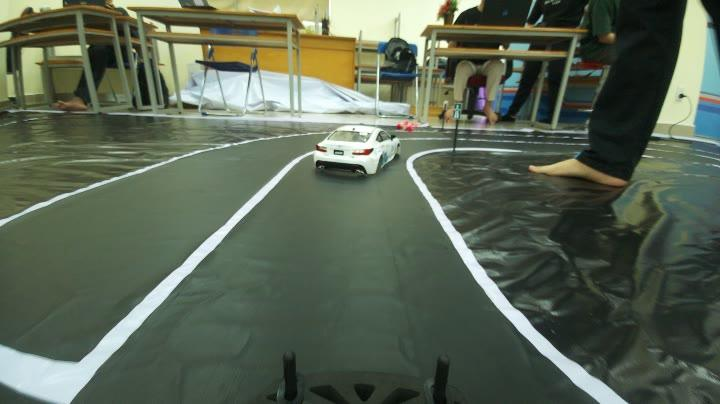car: (302, 114, 400, 188)
